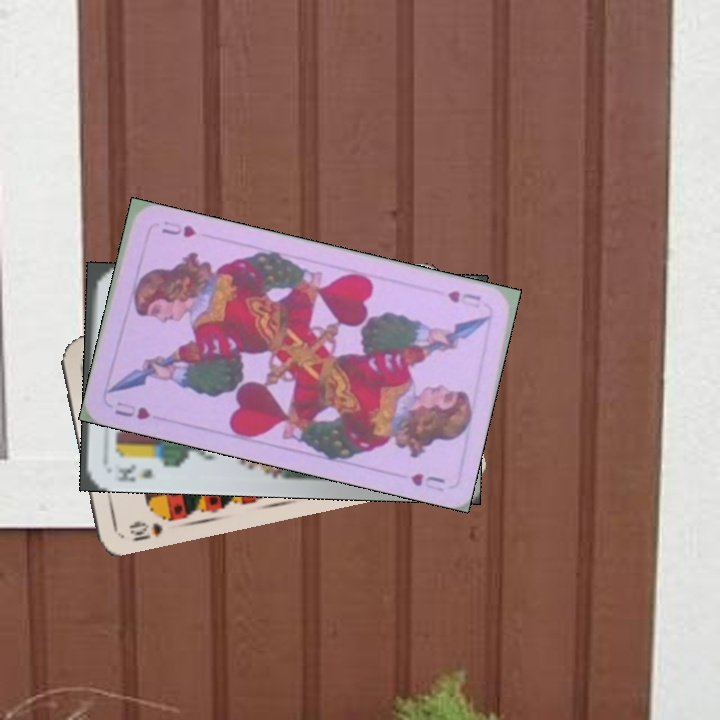EK: (113, 460, 155, 484)
HU: (110, 397, 153, 422), (443, 286, 484, 308)
S10: (125, 517, 166, 544)
